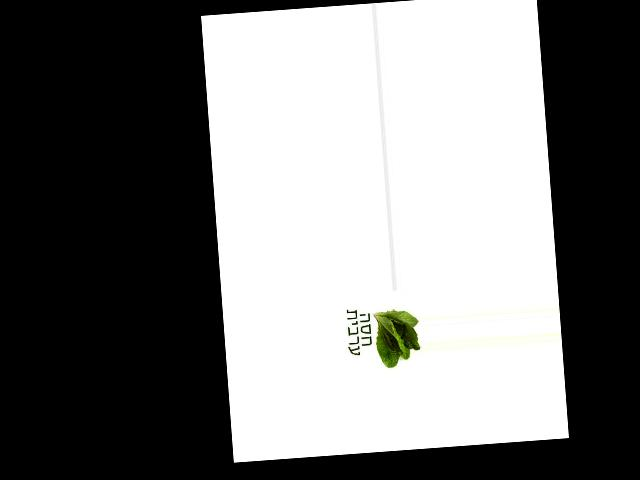lettuce: (368, 304, 421, 369)
